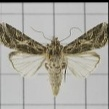Spodoptera litura: (0, 21, 108, 96)
